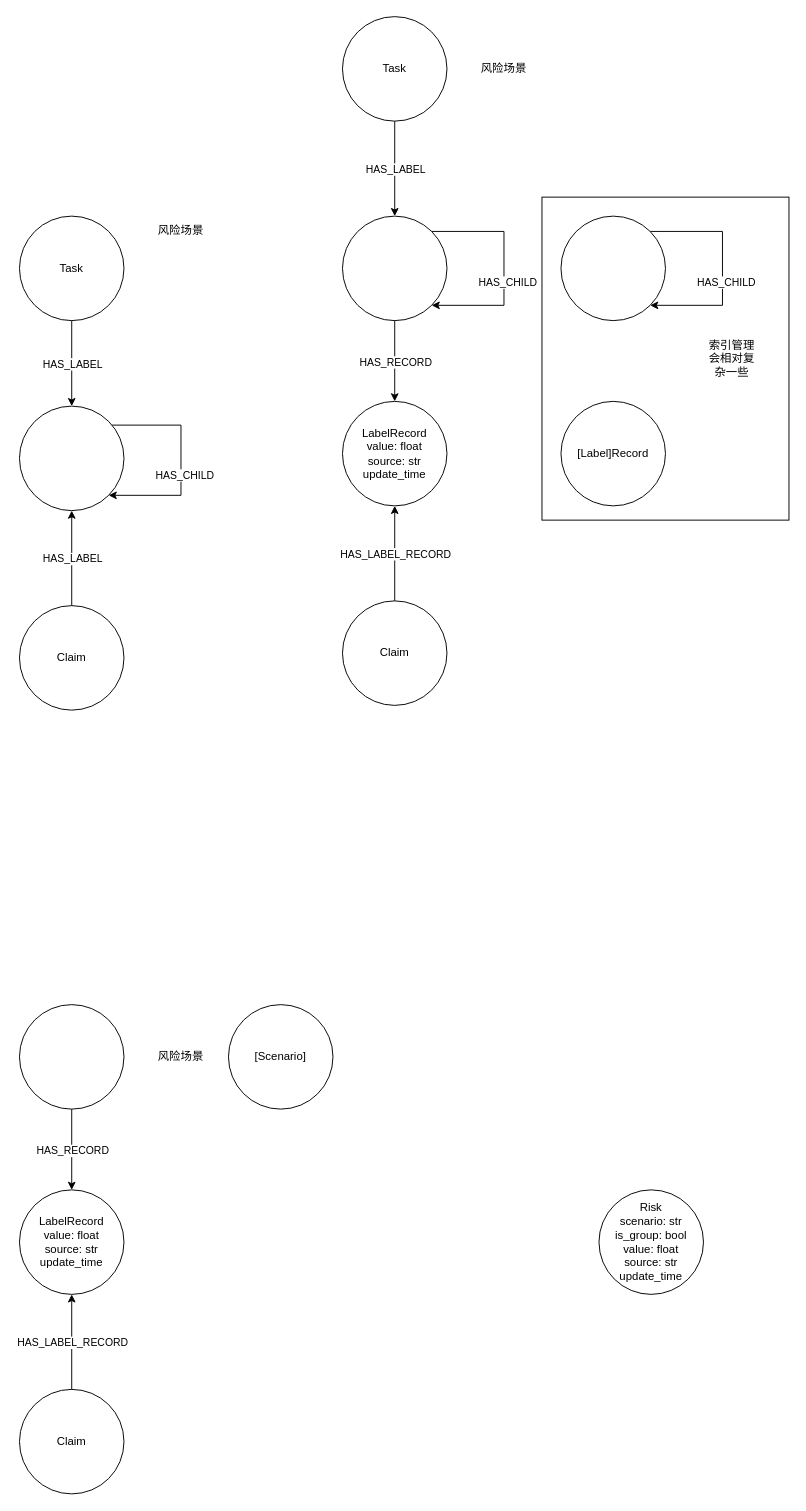
The diagram is 806 pixels wide and 1511 high, and some of its shapes have lost their labels. The shapes that lost their labels are listed below. From the top down, each one's box as (x1, y1, x2, y2) in pixels, then its label:
(342, 215, 447, 321): Label name: str
(560, 215, 665, 321): [Label]
(19, 405, 124, 511): Label name: str value: float source: str update_time
(19, 1004, 124, 1109): Scenario name: str
